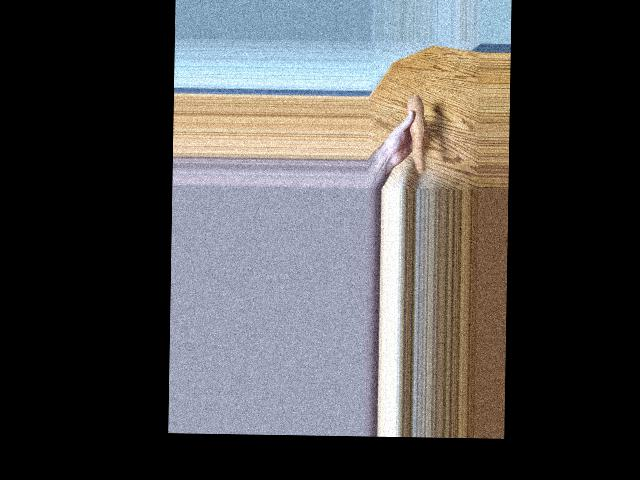sweet_potato: (408, 96, 428, 176)
